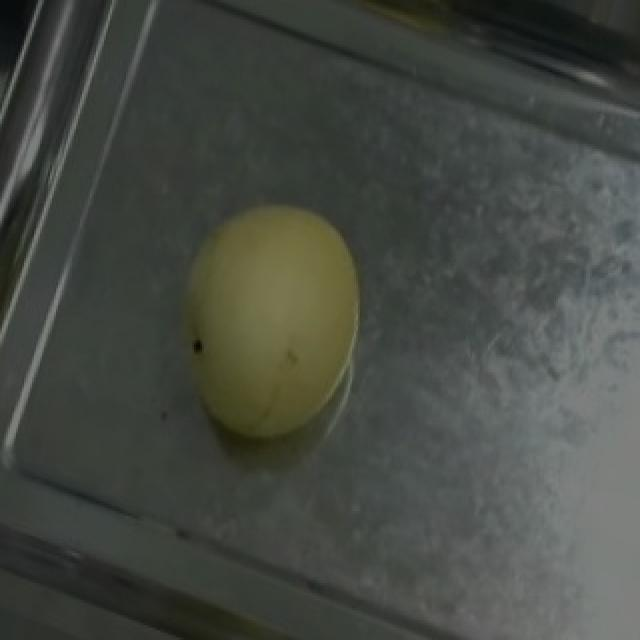Fruit: (132, 166, 410, 481)
